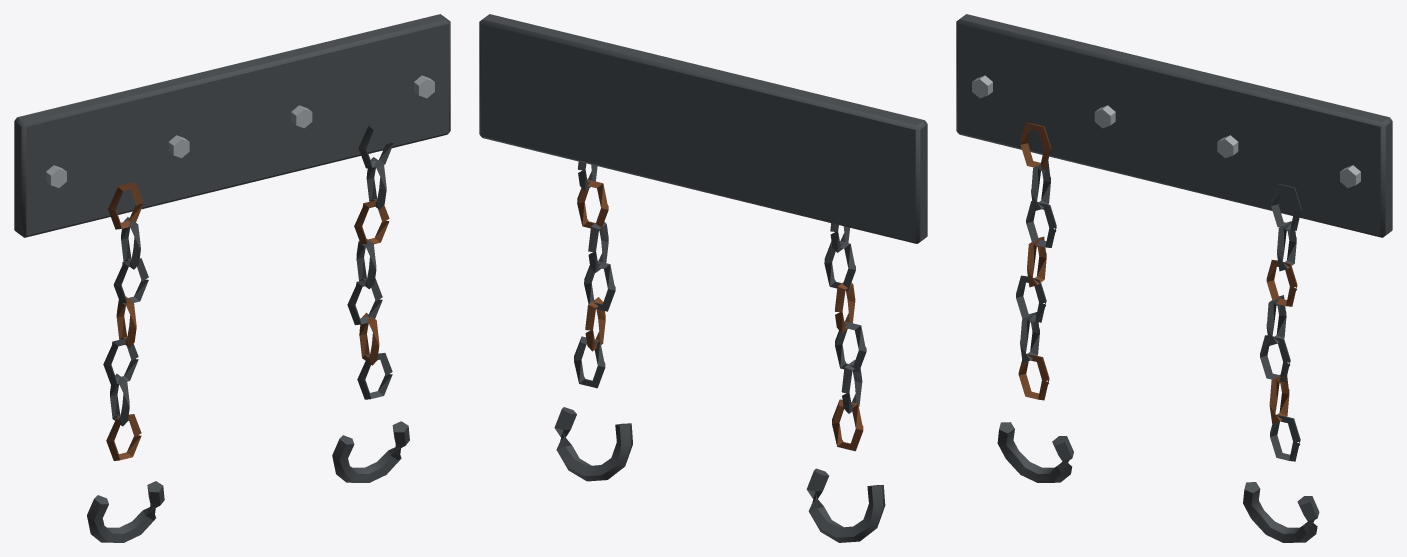
The model's file is wall_chains.glb.
3 views of the same model, side by side, from view 1: azimuth 30°, elevation 25°; view 2: azimuth 150°, elevation 25°; view 3: azimuth 330°, elevation 25° (orthographic). The views are drawn at different scales.
Visible parts, largest first — view 1: Chains; view 2: Chains; view 3: Chains.
Part boxes in pixels (bbox=[...]): Chains: bbox=[14, 14, 450, 542]; Chains: bbox=[479, 14, 927, 542]; Chains: bbox=[956, 14, 1392, 542].
Bounding box in the file's own units: 0.7 × 0.6814 × 0.088.
